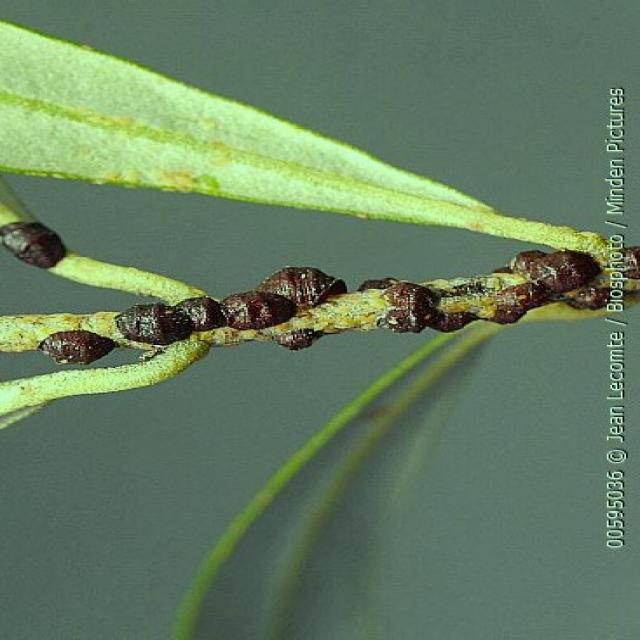Black Scale: (359, 250, 609, 335), (117, 267, 345, 345), (2, 222, 65, 269), (38, 329, 117, 364), (274, 328, 323, 350)
